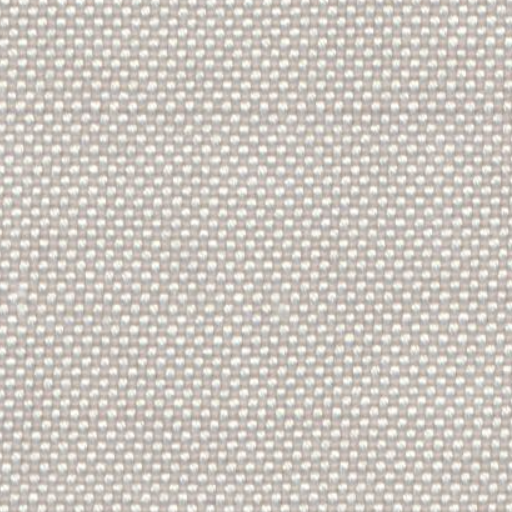TuoSha: (21, 86, 489, 130)
